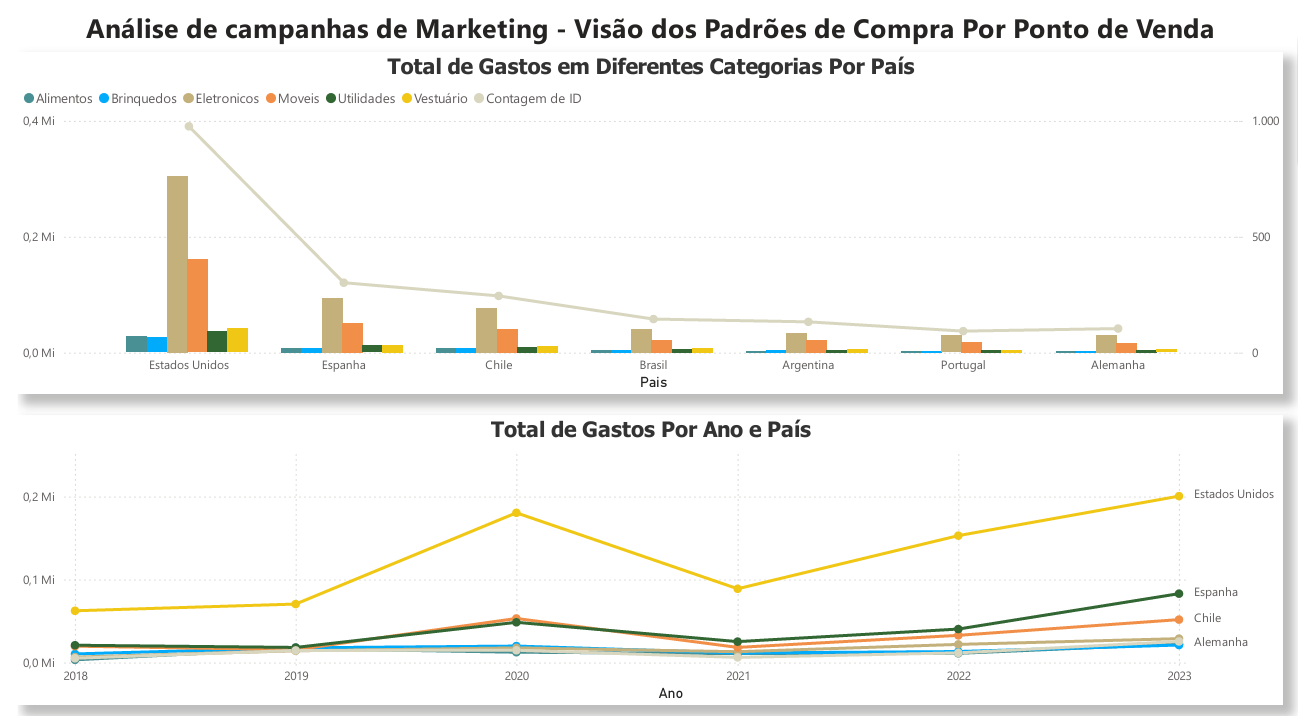

What the dashboard file says about the page in this screenshot:
{"tool":"powerbi","page":{"name":"Visão Pontos de Venda","canvas":[1280,720],"ordinal":3},"visuals":[{"type":"textbox","box":[0,0,1265.4,50],"z":0},{"type":"lineChart","title":"Total de Gastos Por Ano e País","fields":{"Y":["DadosMarketing.TotalGasto"],"Series":["DadosMarketing.Pais"],"Category":["DadosMarketing.Data Cadastro.Variation.Hierarquia de datas.Ano"]},"box":[0,413.1,1265.8,289.6],"z":1000},{"type":"lineClusteredColumnComboChart","title":"Total de Gastos em Diferentes Categorias Por País","fields":{"Y":["Sum(DadosMarketing.Gasto com Alimentos)","Sum(DadosMarketing.Gasto com Brinquedos)","Sum(DadosMarketing.Gasto com Eletronicos)","Sum(DadosMarketing.Gasto com Moveis)","Sum(DadosMarketing.Gasto com Utilidades)","Sum(DadosMarketing.Gasto com Vestuario)"],"Category":["DadosMarketing.Pais"],"Y2":["CountNonNull(DadosMarketing.ID)"]},"box":[0,49.6,1265.8,342.7],"z":2000}]}

Visuals, with their boxes in screenshot pixels (x1, y1, x2, y2), scaled from the page's 1280x720 canvas onto the 1310x716 screenshot:
textbox: 0/0/1295/50
"Total de Gastos Por Ano e País" lineChart: 0/411/1295/699
"Total de Gastos em Diferentes Categorias Por País" lineClusteredColumnComboChart: 0/49/1295/390
